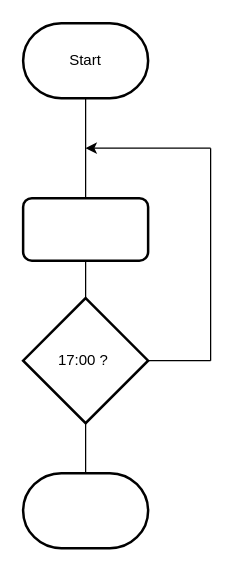
Some shapes in this 243 by 570 pixel diagram are drawn without their labels. The shapes that lost their labels are listed below. From the top down, each one's box as (x1, y1, x2, y2) in pixels, then its label:
(21, 196, 149, 261): Work
(21, 471, 149, 549): End
